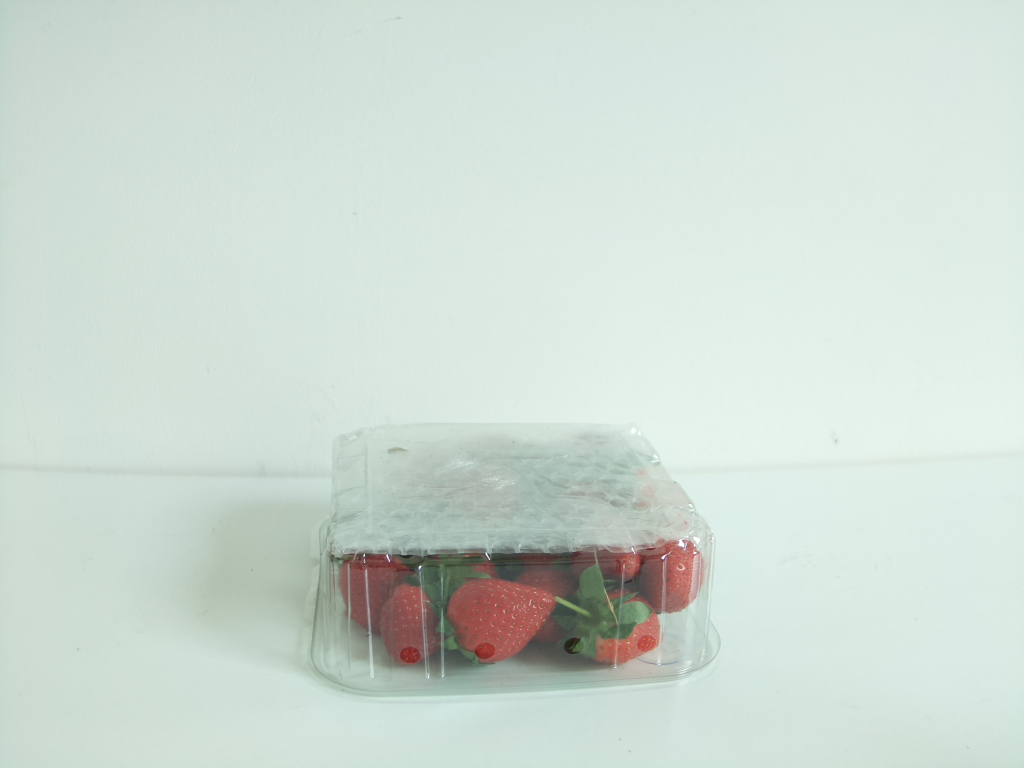soft-fruit: (301, 421, 729, 694)
